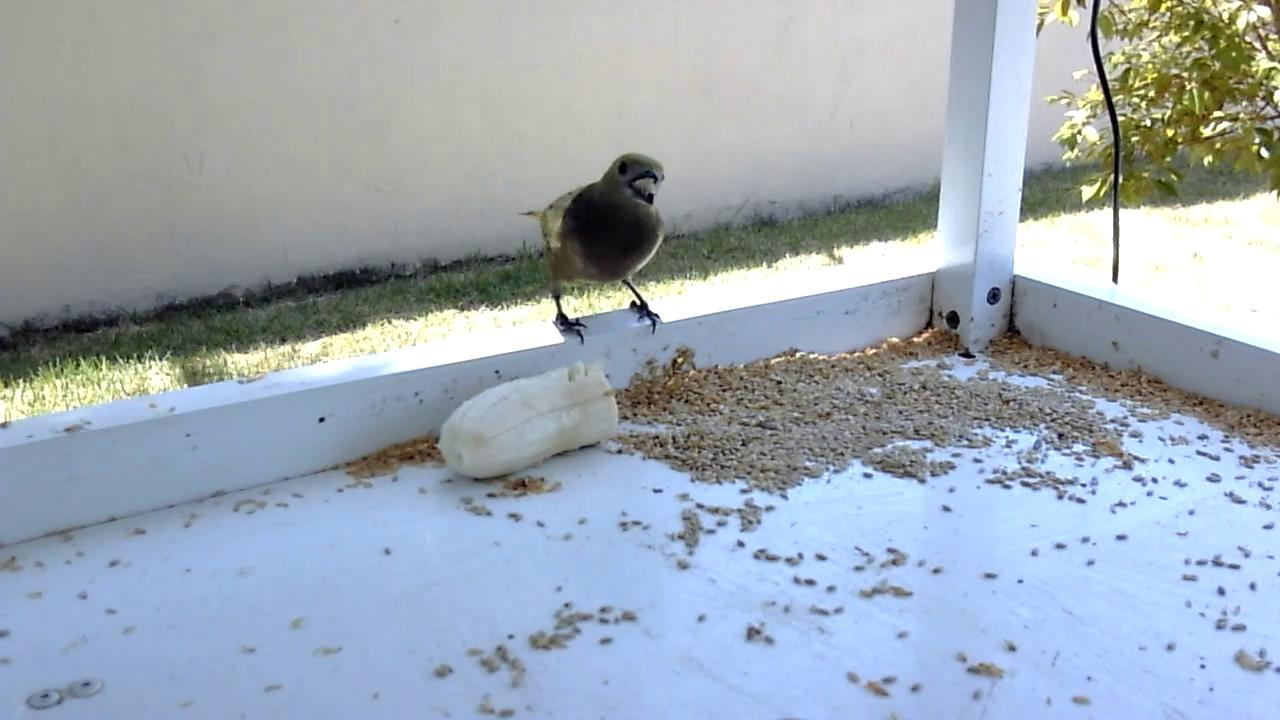sanhaco_do_coqueiro: (516, 150, 670, 348)
